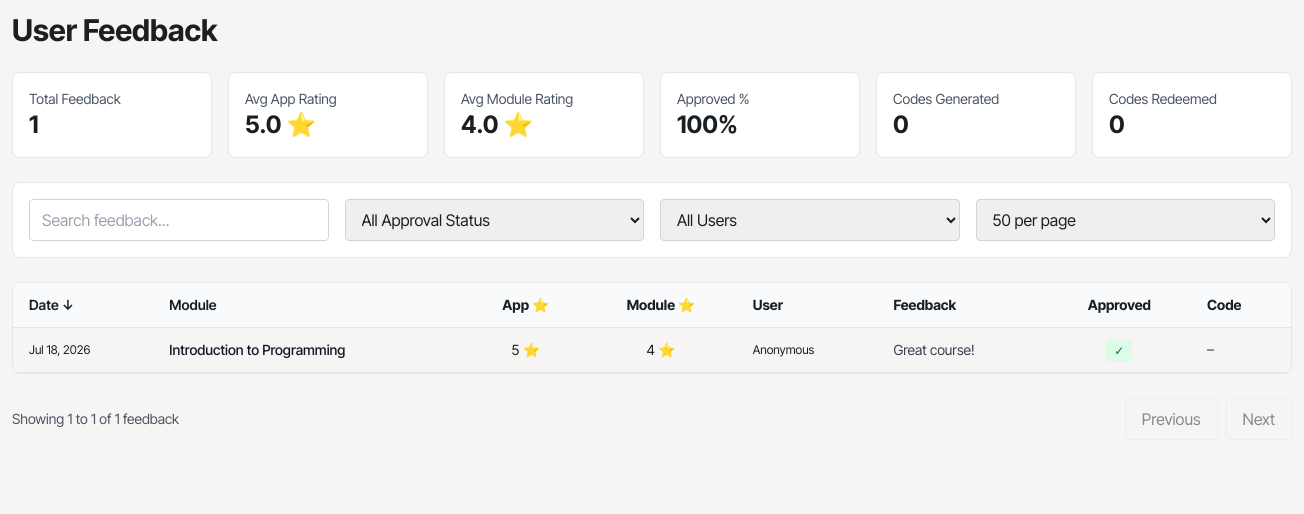
Test: AdminFeedbackPage › surfaces a failed refetch instead of silently leaving the stale table up
Click the button "Module": click(193, 305) [169,295,217,315]
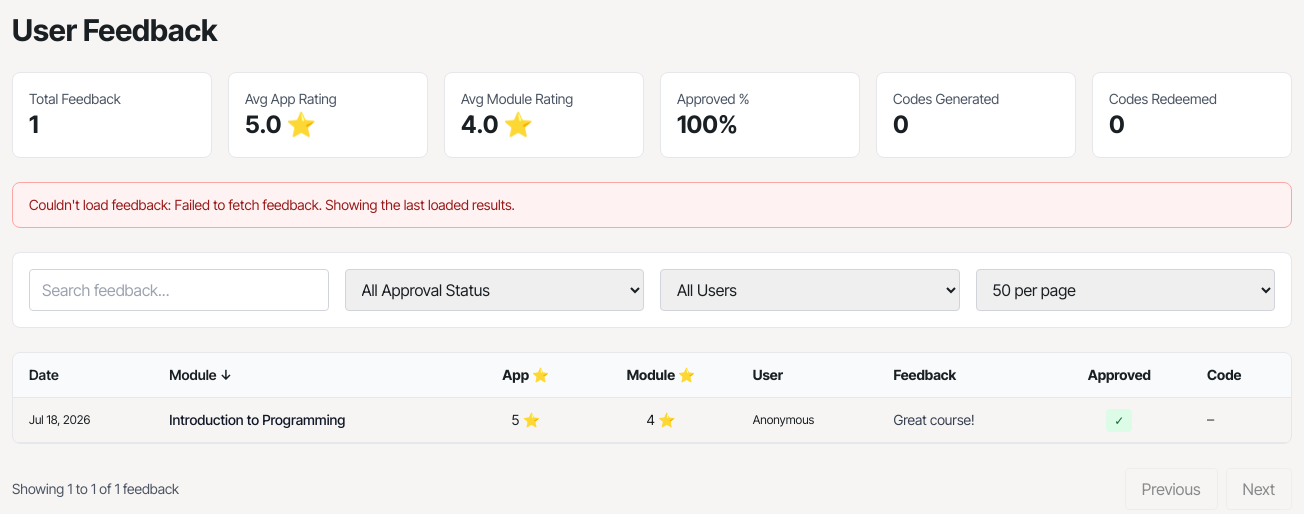
Expected: the text "Introduction to Programming" is shown, [153,398,466,442]
Expected: the message shows "Failed to fetch feedback", [174,196,319,213]
Expected: the message shows "last loaded results", [319,196,515,213]
